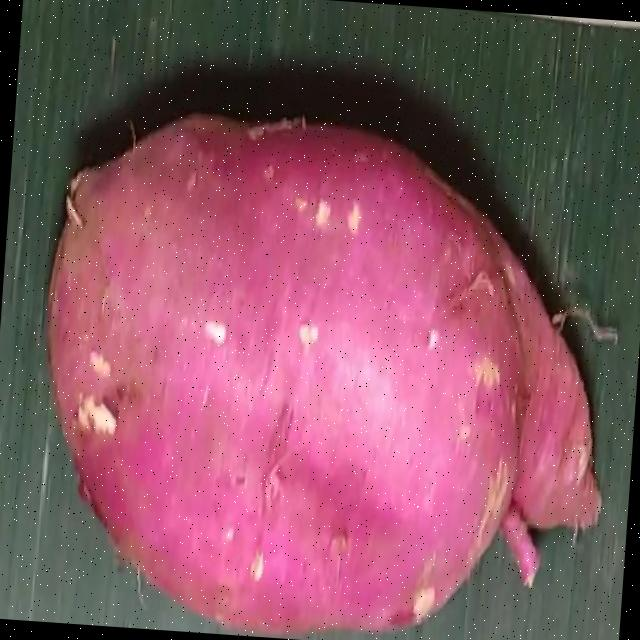Sweet Potato: (43, 111, 600, 634)
